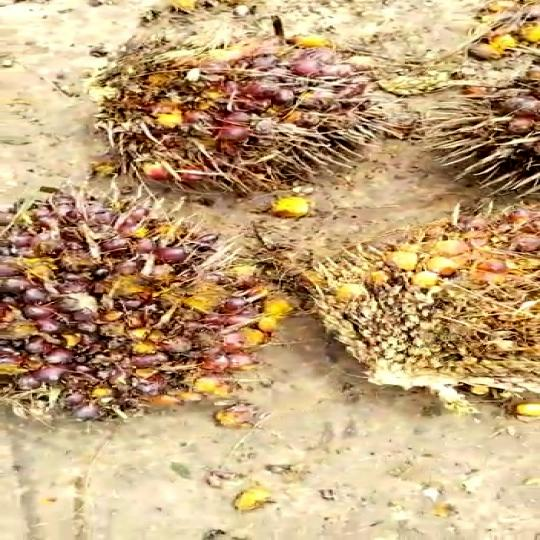masak: (0, 184, 272, 460), (87, 18, 390, 201), (288, 211, 535, 414)
